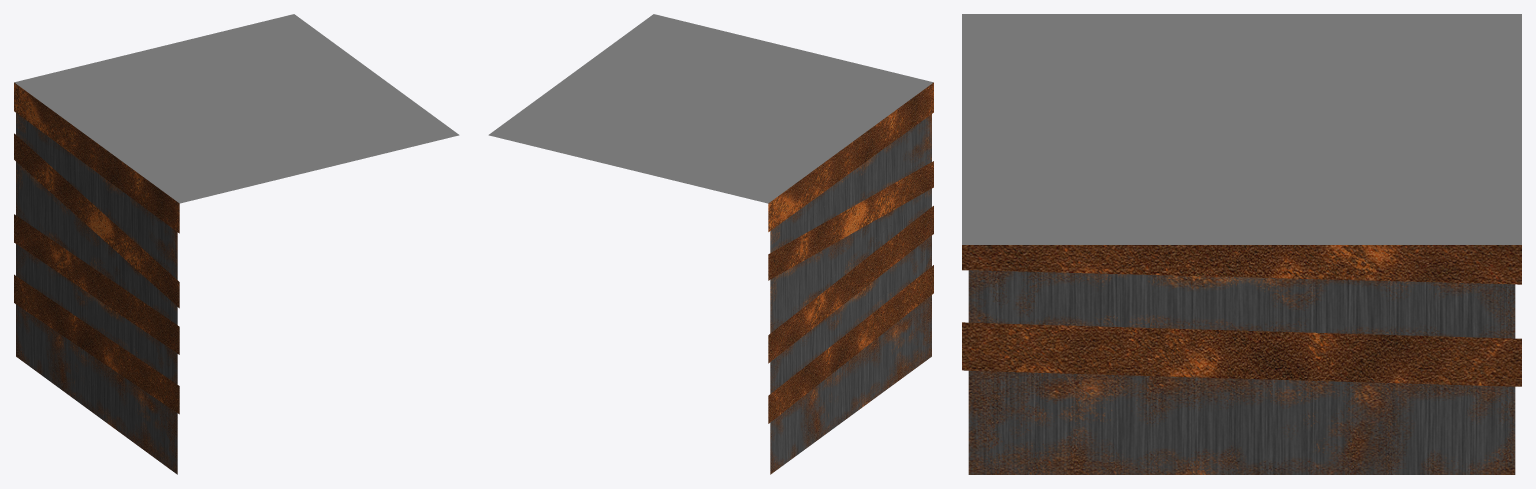
File: MetalBoxUniformSize.fbx
3 renders of one model, left to right at view 1: azimuth 30°, elevation 25°; view 2: azimuth 150°, elevation 25°; view 3: azimuth 270°, elevation 25°, orthographic. The views are drawn at different scales.
Parts seen in each view (by area): view 1: pCube1; view 2: pCube1; view 3: pCube1.
Boxes of the visible parts, bbox=[...] form: pCube1: bbox=[14, 14, 459, 474]; pCube1: bbox=[488, 14, 933, 474]; pCube1: bbox=[962, 14, 1521, 474].
Size of the model in its own units: 4.13 by 3.85 by 4.23.
Materials: 1 (1 with a texture image).
